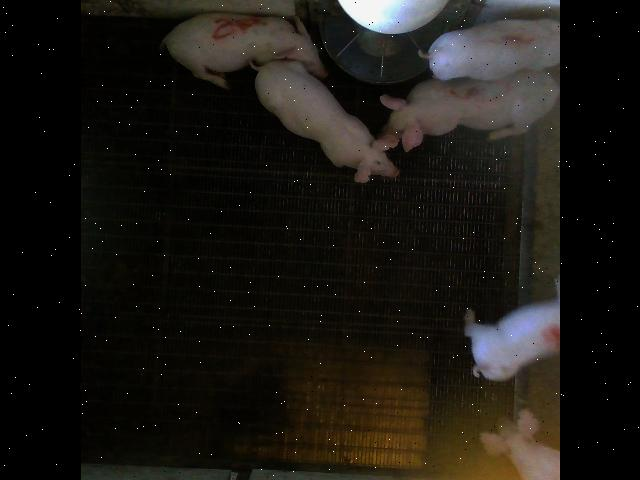pig-1: (415, 20, 559, 81)
pig-3: (380, 71, 558, 150)
pig-4: (464, 299, 559, 381)
pig-5: (160, 14, 326, 89)
